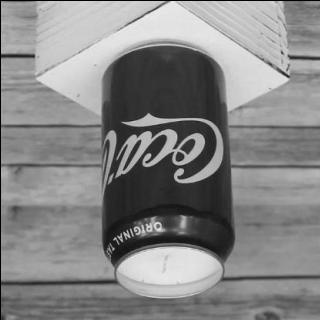alumunium_can: (99, 42, 234, 298)
